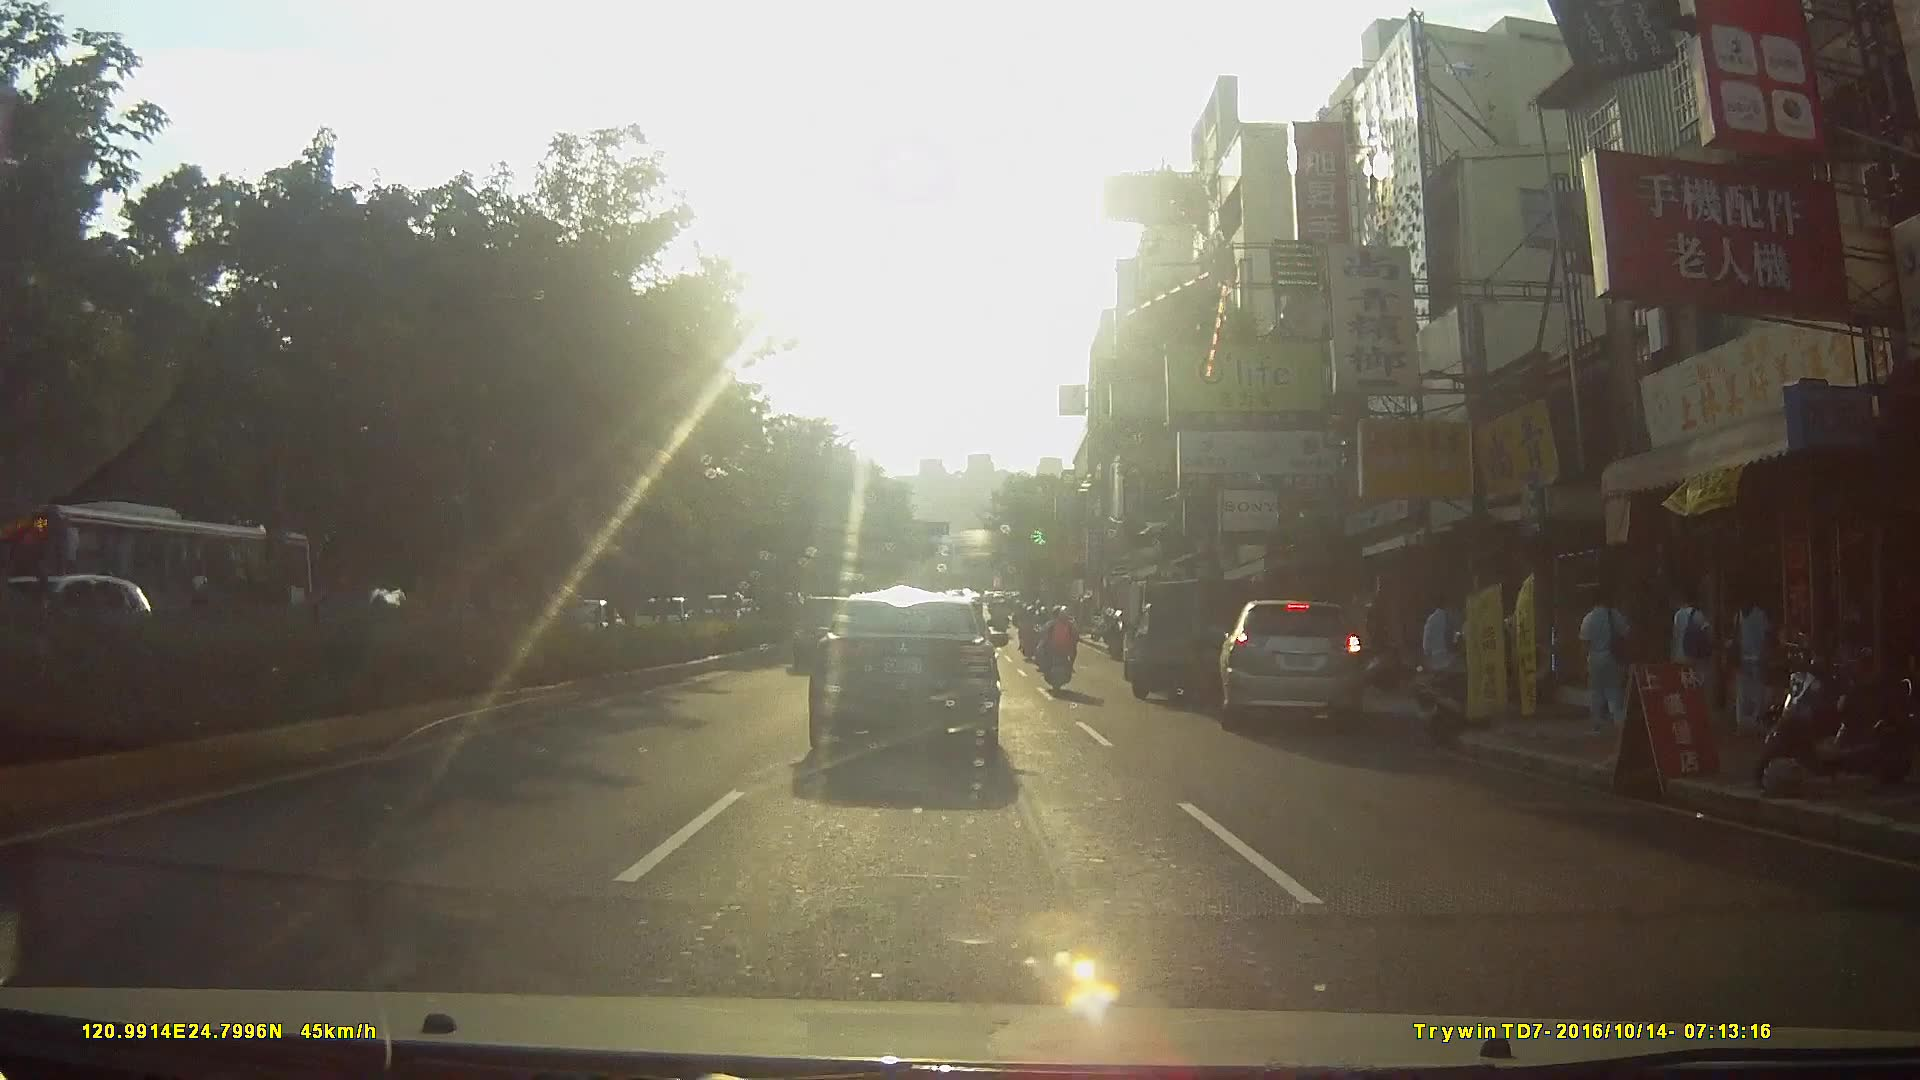pedestrian: (1582, 581, 1633, 735), (1729, 583, 1775, 735), (1673, 585, 1716, 750), (1421, 593, 1466, 713)
rider: (1038, 597, 1081, 694), (1019, 602, 1044, 662)
vehicle: (19, 498, 322, 665), (809, 592, 1029, 777), (1212, 589, 1388, 744), (1113, 567, 1247, 714)
